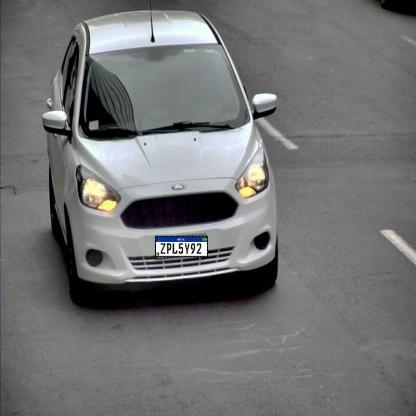PlacaM: (155, 236, 208, 257)
